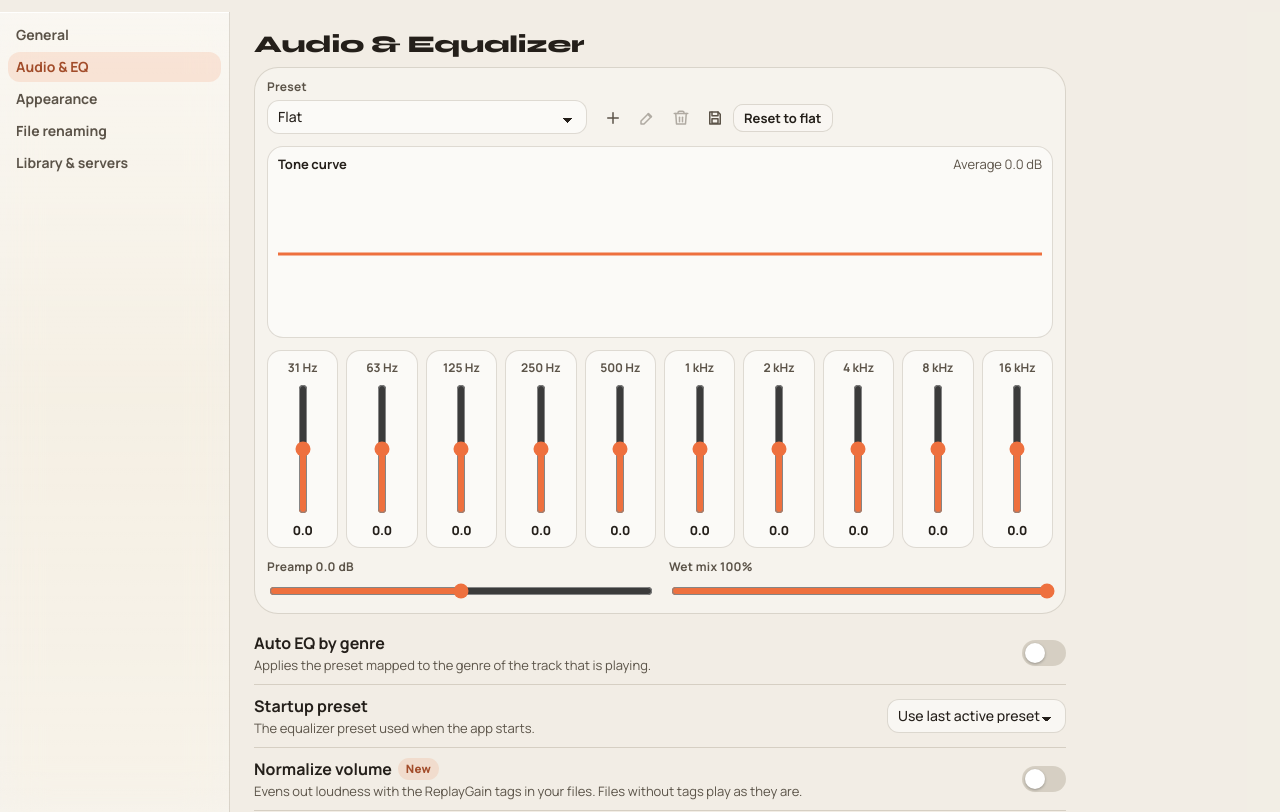
Audio & EQ › toggles Auto EQ and volume normalization, and marks crossfade as coming soon
This screenshot has width=1280, height=812.
What coordinates should you click on to do the following:
click the switch named "Auto EQ by genre"
I would click on:
 (1044, 653)
Its box is [1022,640,1066,666].
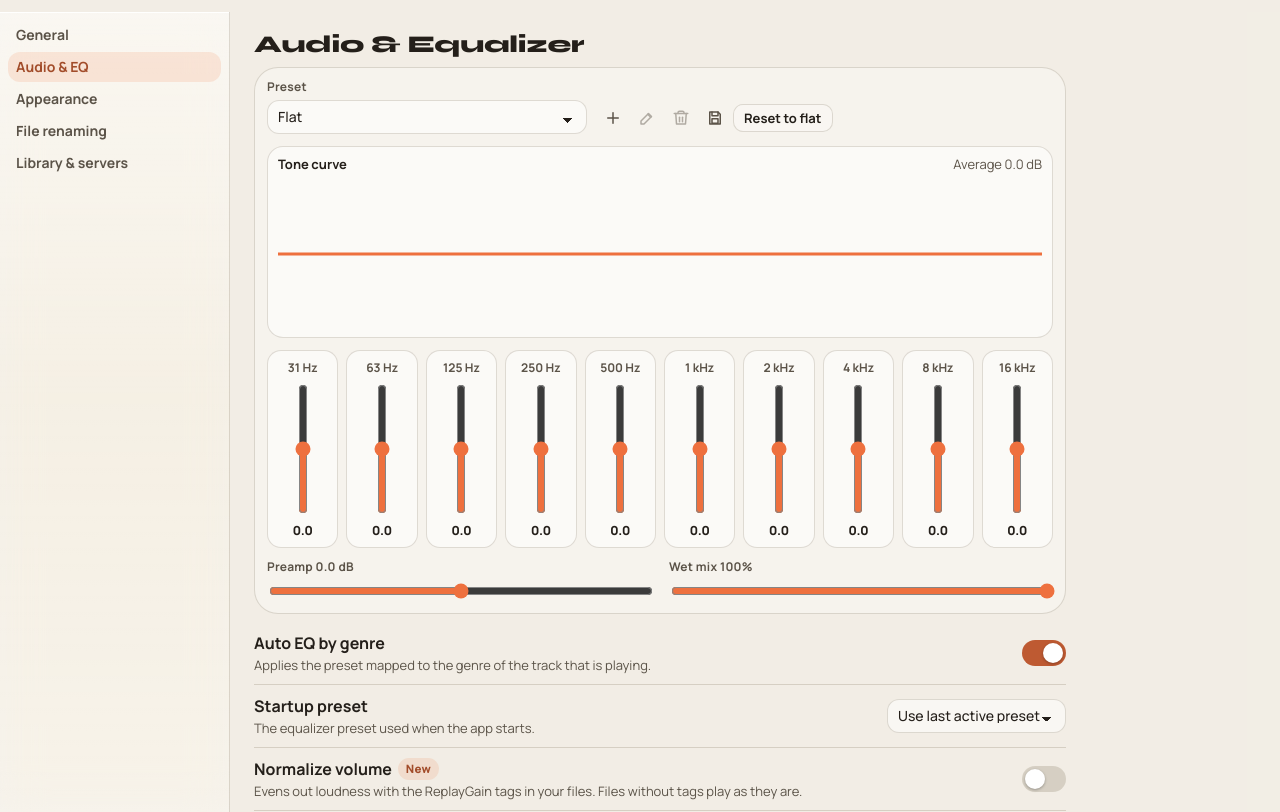
What coordinates should you click on to do the following:
click the switch named "Normalize volume"
I would click on:
 (1044, 779)
Its box is [1022,766,1066,792].
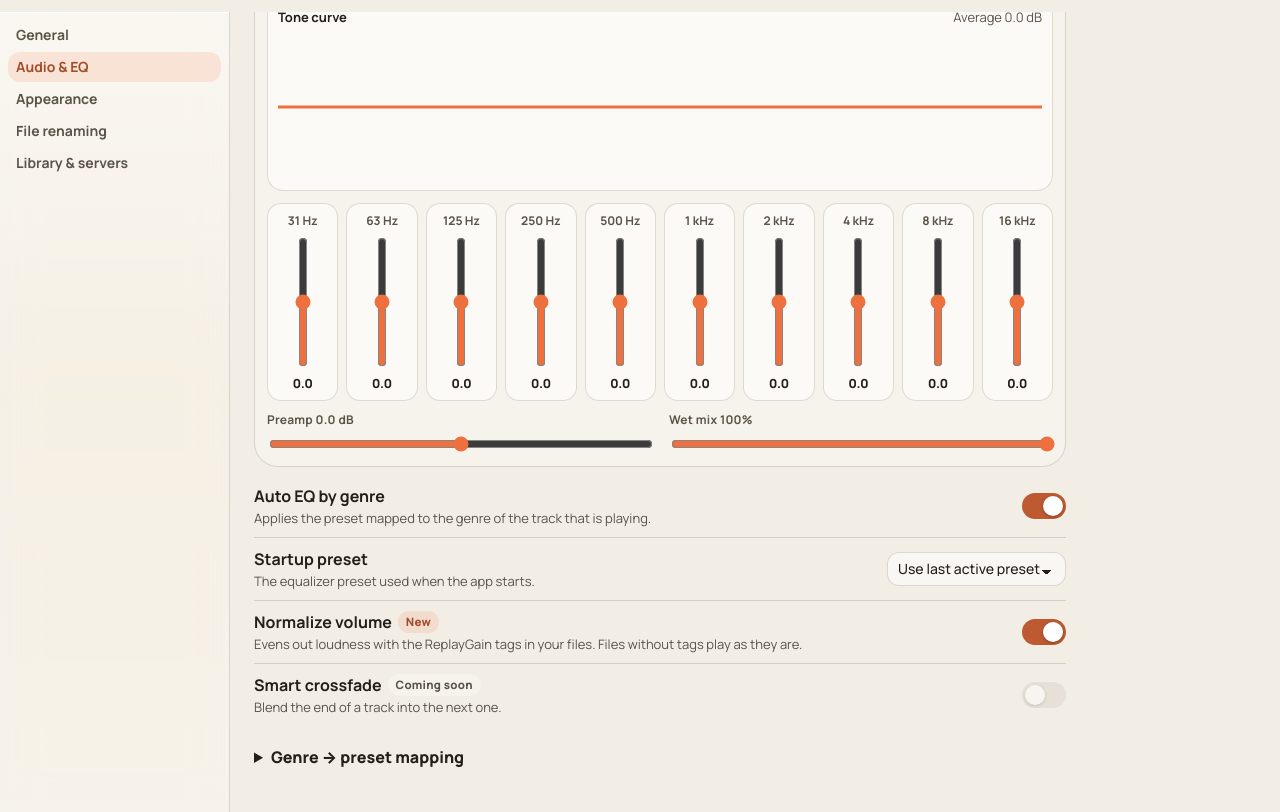
Expected: the switch named "Smart crossfade" is disabled, [1022,682,1066,708]
Expected: the text "Coming soon" is shown once, [388,674,481,696]
